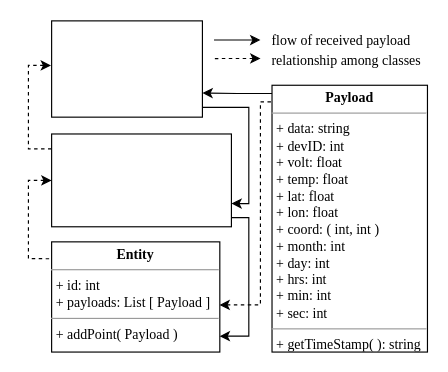
Image size: 448x372. Some labels were removed from this diagram. Each missing label, with the centre of its shape:
Fleet + fleet: List [ Entity ] + processPayload( Payload ): (x=140, y=180)
Map + fleet: Fleet + add_point( Payload ): (x=126, y=68)
